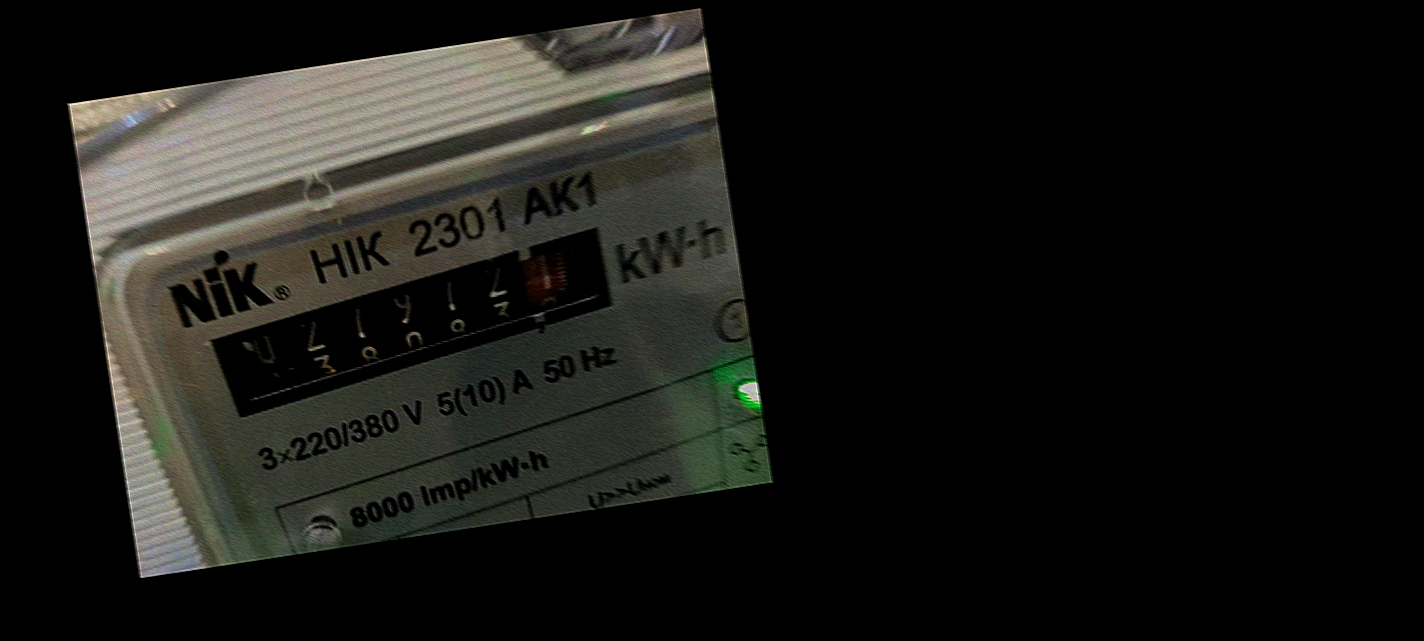0: (248, 326, 281, 366)
1: (532, 247, 560, 292)
2: (295, 310, 329, 353), (479, 258, 512, 298)
7: (433, 270, 465, 314), (344, 300, 372, 340)
9: (389, 286, 420, 324)
screen: (185, 210, 655, 430)
